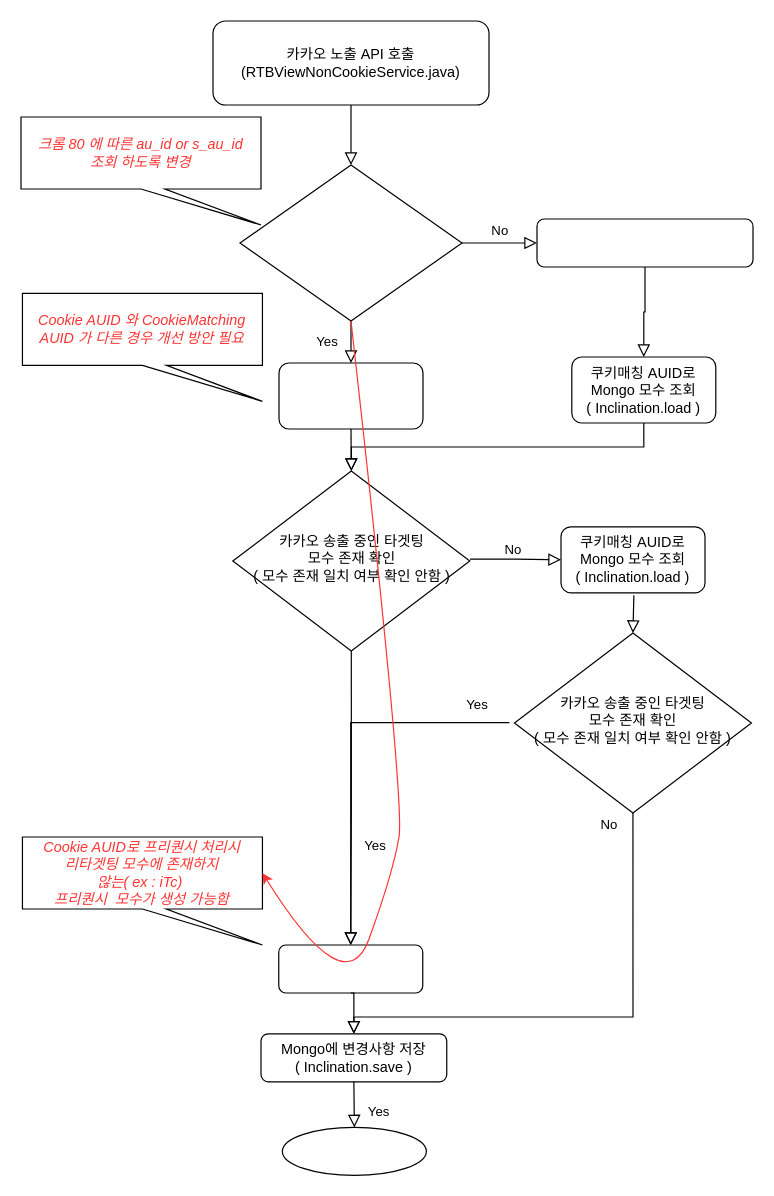
The diagram is 774 pixels wide and 1196 high, and some of its shapes have lost their labels. Each missing label, with the box of its shape:
Cookie AUID로 Mongo 모수 조회 ( Inclination.load ): (278, 362, 423, 429)
END: (281, 1126, 426, 1175)
Frequency 처리: (278, 944, 423, 993)
request.getCookie("au_id") 존재?: (239, 164, 462, 321)
쿠키매칭 AUID 조회 request.getParameter("auid"): (536, 218, 753, 267)
